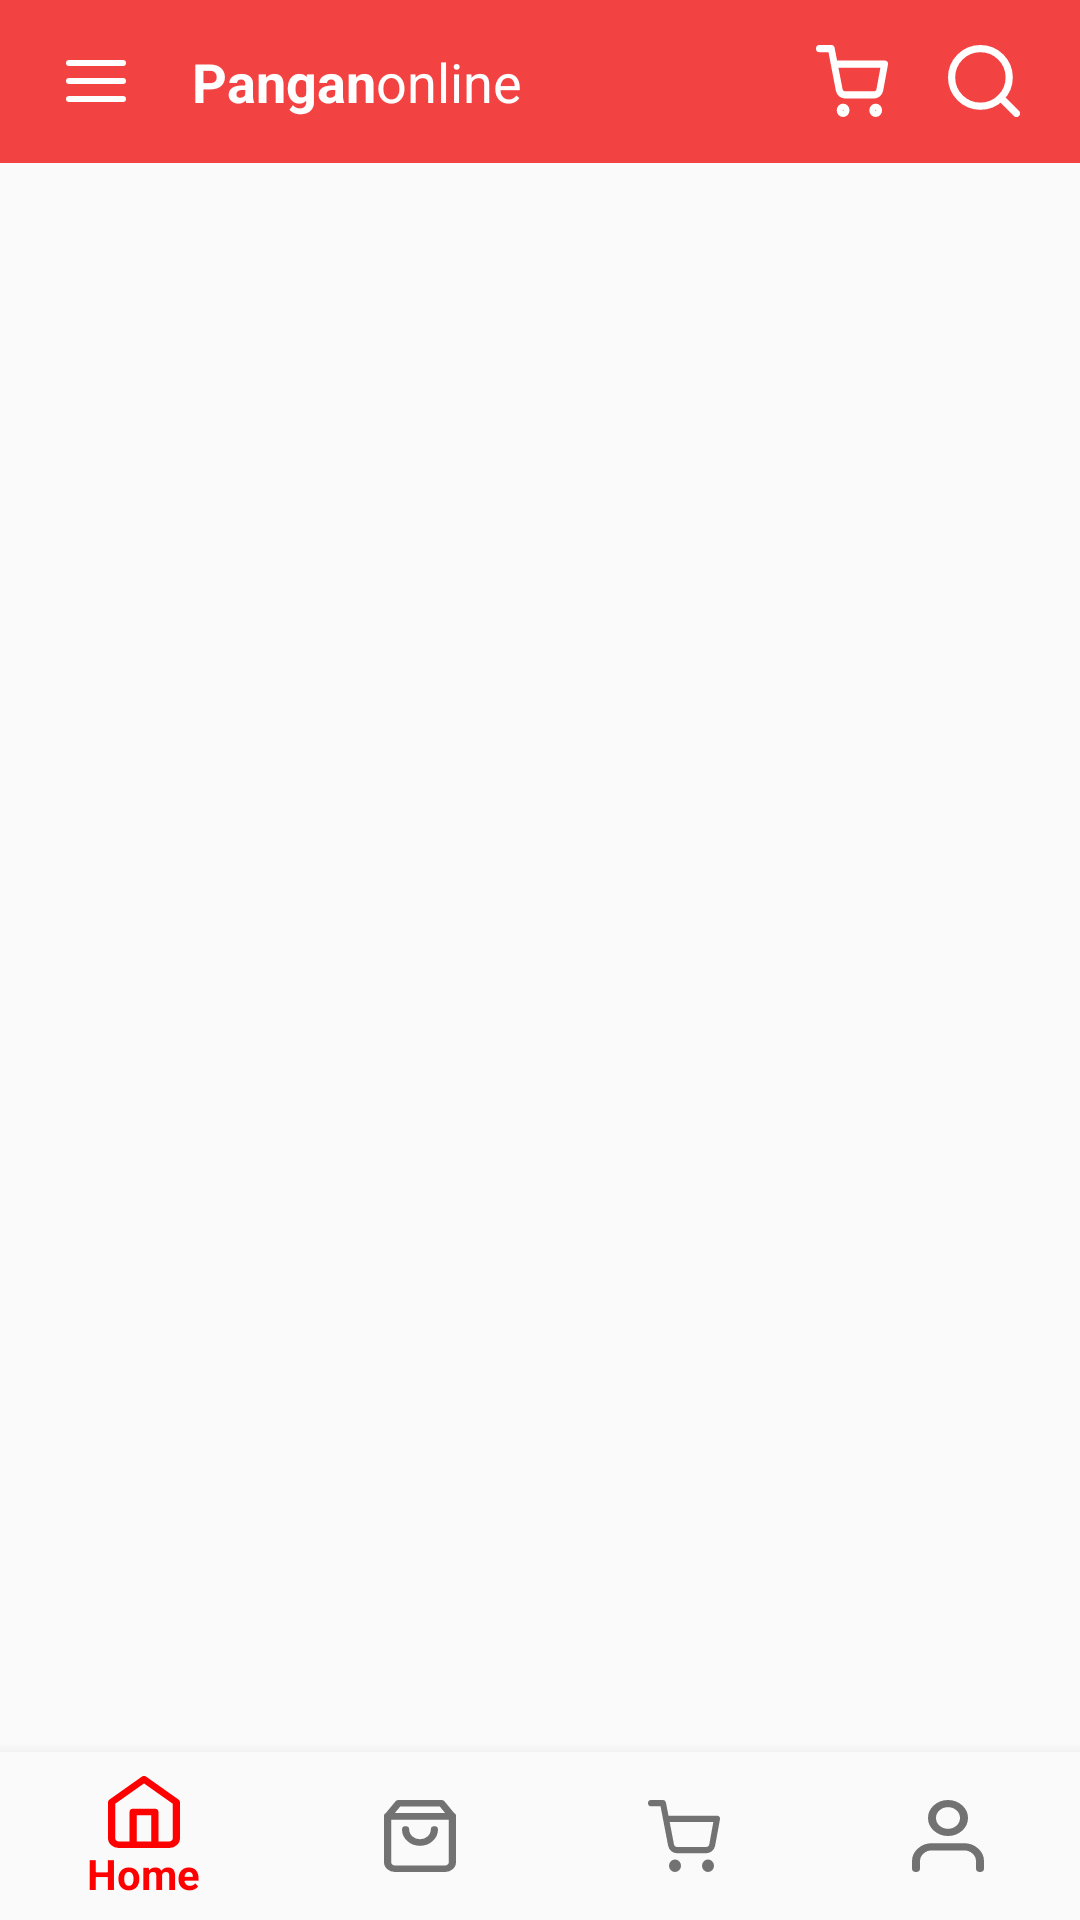

Locate icon controls on the screen. Image size 1080*1920, boxes as (x1, y1, x2, y2).
drawer: (66, 60, 126, 102)
keranjangputih: (816, 45, 888, 117)
search: (948, 45, 1020, 117)
